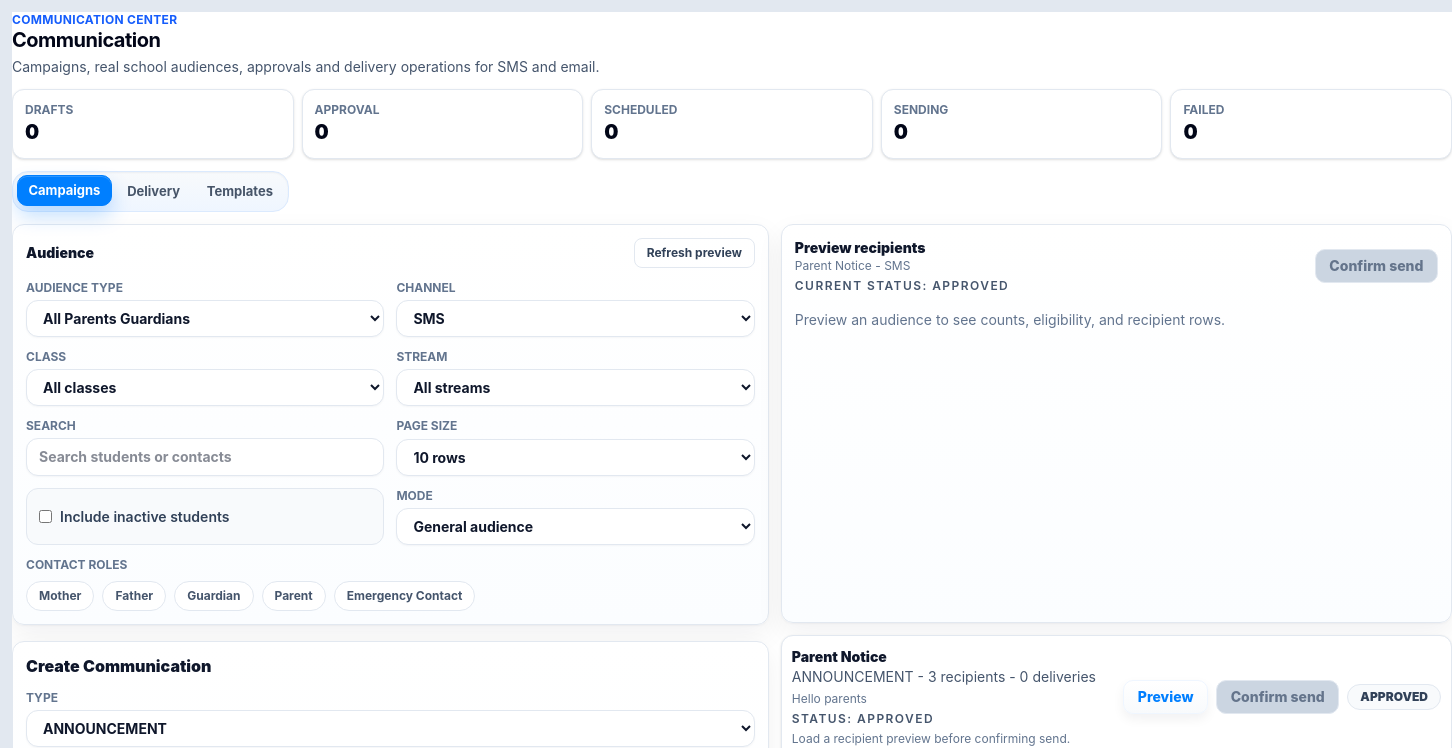
Test: CommunicationsPage › shows normal send completion copy without a dry-run banner after a communication send
Click the button "Preview" at point(1166, 696), box [1123,680,1208,714]
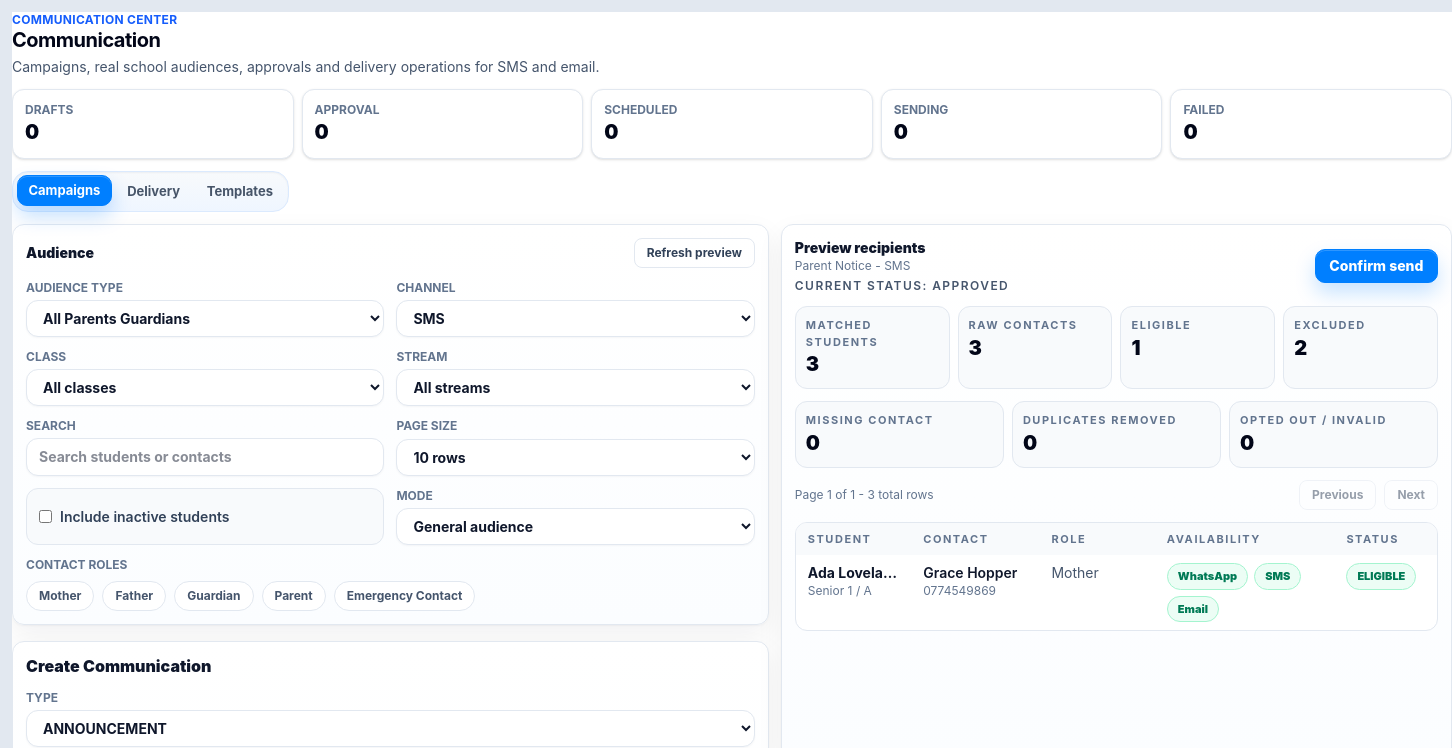
Click the button "Confirm send" at point(1376, 266), box [1315,249,1438,283]
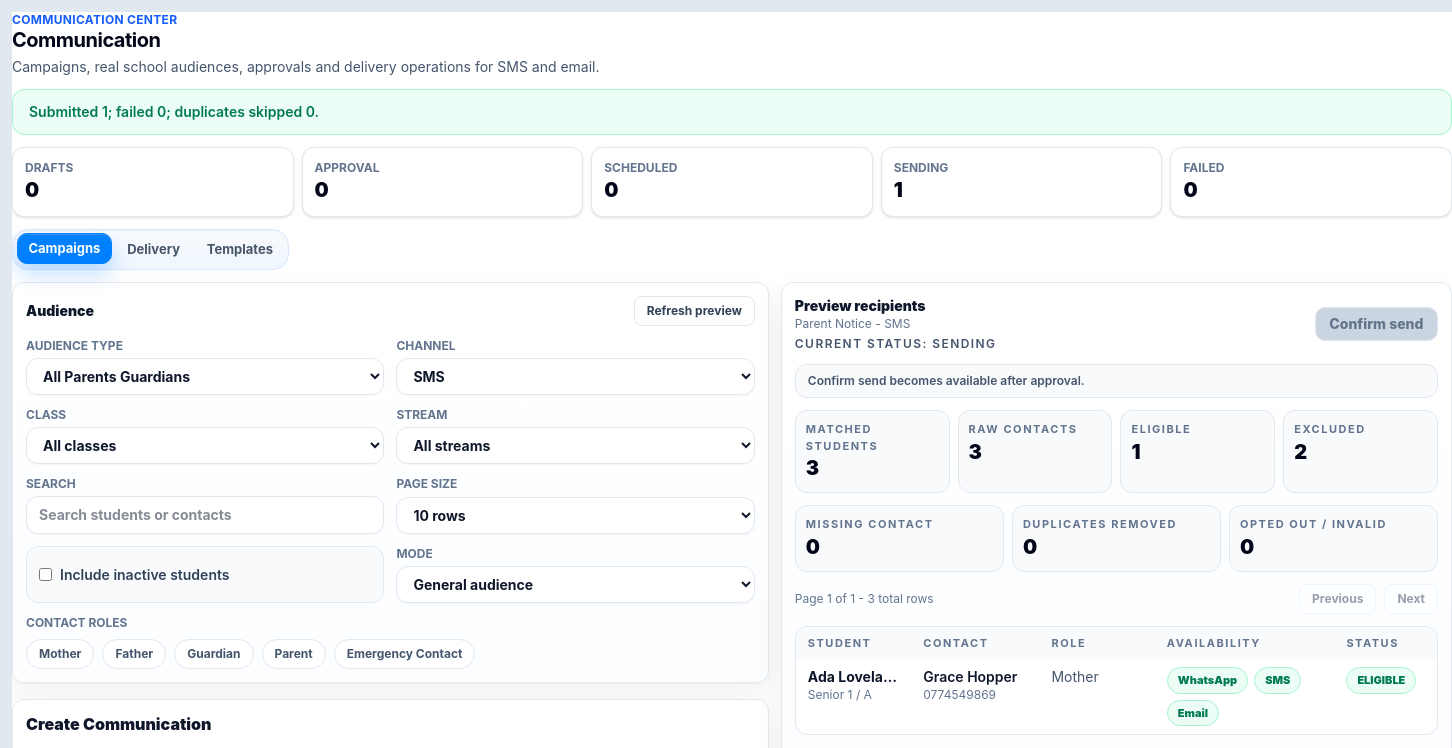
expect the text "Submitted 1; failed 0; duplicates skipped 0." is shown: met, box [12,89,1451,135]
